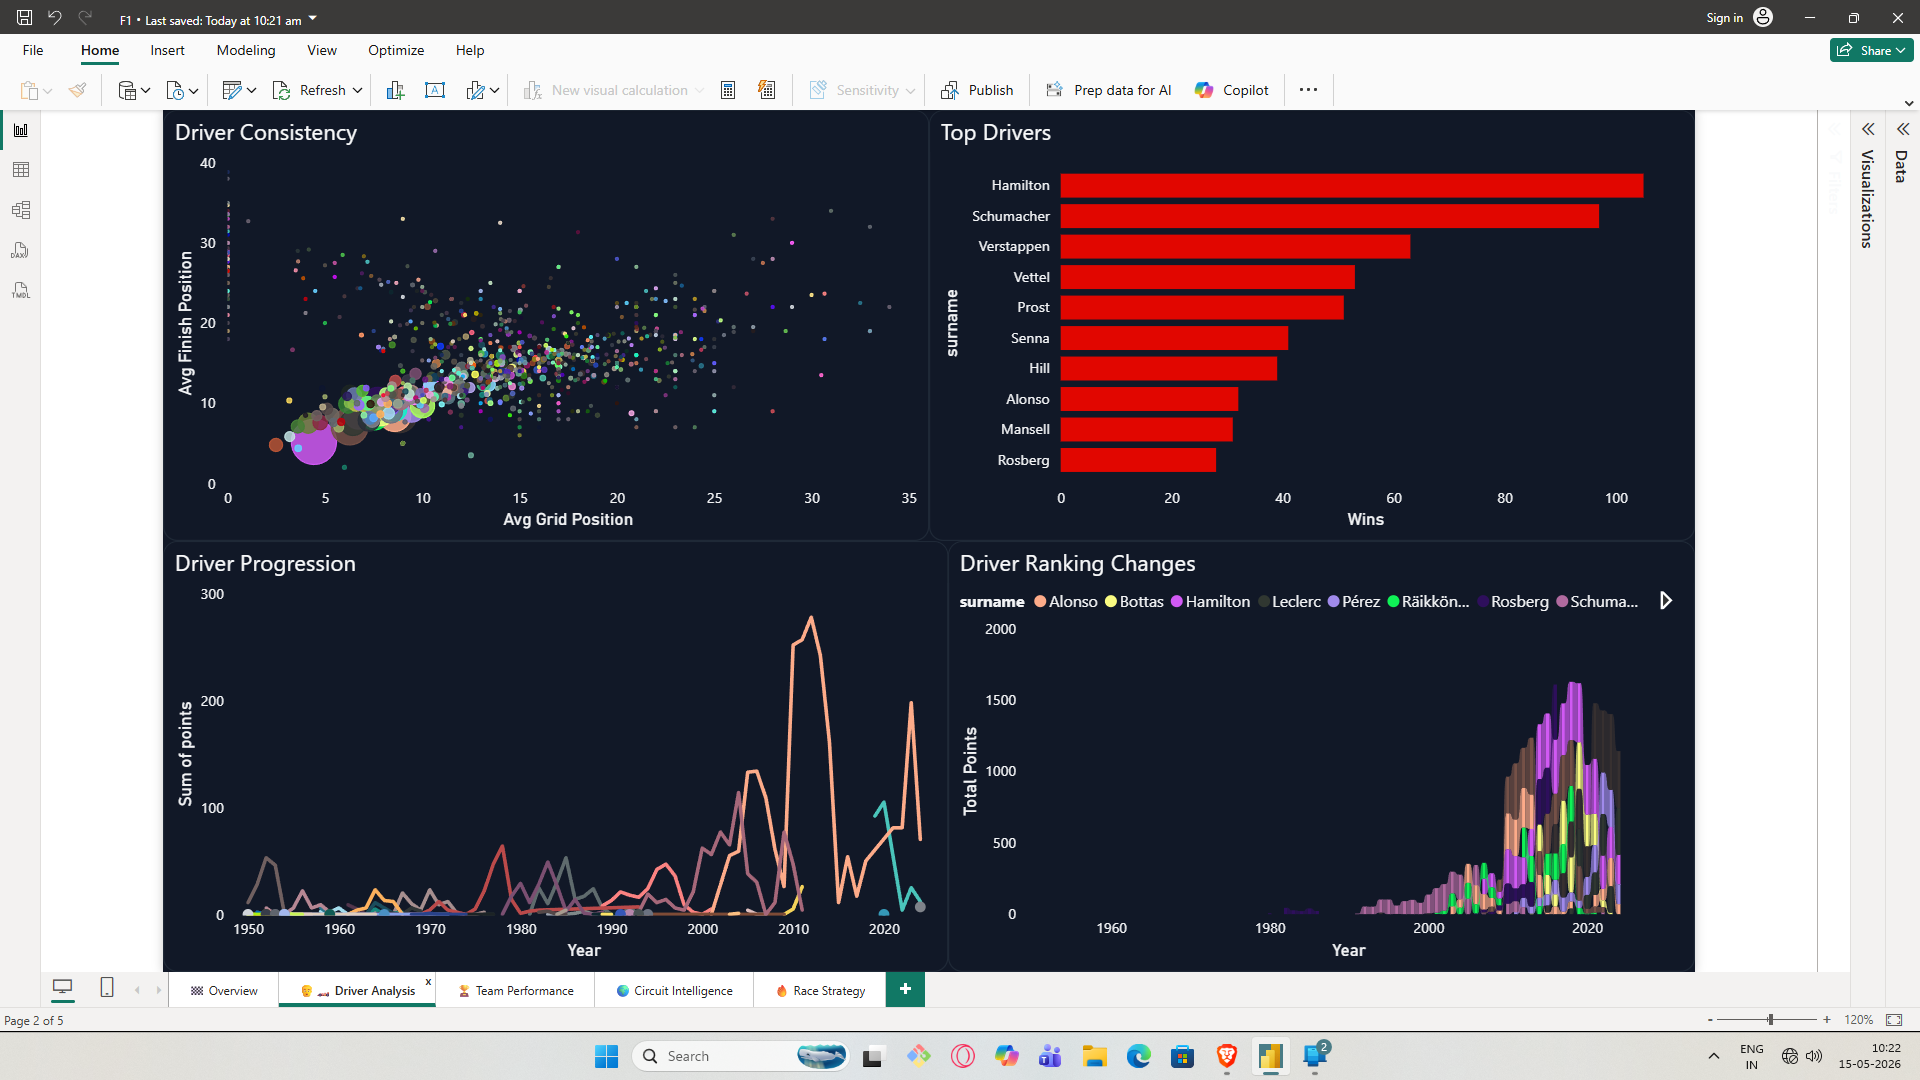

What the dashboard file says about the page in this screenshot:
{"tool":"powerbi","page":{"name":"👨🏎️ Driver Analysis","canvas":[1280,720],"ordinal":1},"visuals":[{"type":"scatterChart","title":"Driver Consistency","fields":{"X":["circuits.Avg Grid Position"],"Y":["circuits.Avg Finish Position"],"Size":["circuits.Driver Points"],"Category":["drivers.surname"],"Series":["drivers.surname"]},"box":[0,0,640,359.9],"z":0},{"type":"clusteredBarChart","title":"Top Drivers","fields":{"Category":["drivers.surname"],"Y":["circuits.Wins"]},"box":[640,0,640,359.9],"z":1000},{"type":"lineChart","title":"Driver Progression","fields":{"Category":["races.date.Variation.Date Hierarchy.Year"],"Y":["Sum(results.points)"],"Series":["drivers.surname"]},"box":[0,359.9,655.6,359.9],"z":2000},{"type":"ribbonChart","title":"Driver Ranking Changes","fields":{"Category":["races.date.Variation.Date Hierarchy.Year"],"Series":["drivers.surname"],"Y":["circuits.Total Points"]},"box":[656,360,624,360],"z":3000}]}

Visuals, with their boxes on the page's 1280x720 design canvas (x1, y1, x2, y2). These are canvas units, not pixel positions in the 1920x1080 screenshot, which may show the page scaled, cropped or inside an application window:
"Driver Consistency" scatterChart: <region>0, 0, 640, 360</region>
"Top Drivers" clusteredBarChart: <region>640, 0, 1280, 360</region>
"Driver Progression" lineChart: <region>0, 360, 656, 720</region>
"Driver Ranking Changes" ribbonChart: <region>656, 360, 1280, 720</region>
